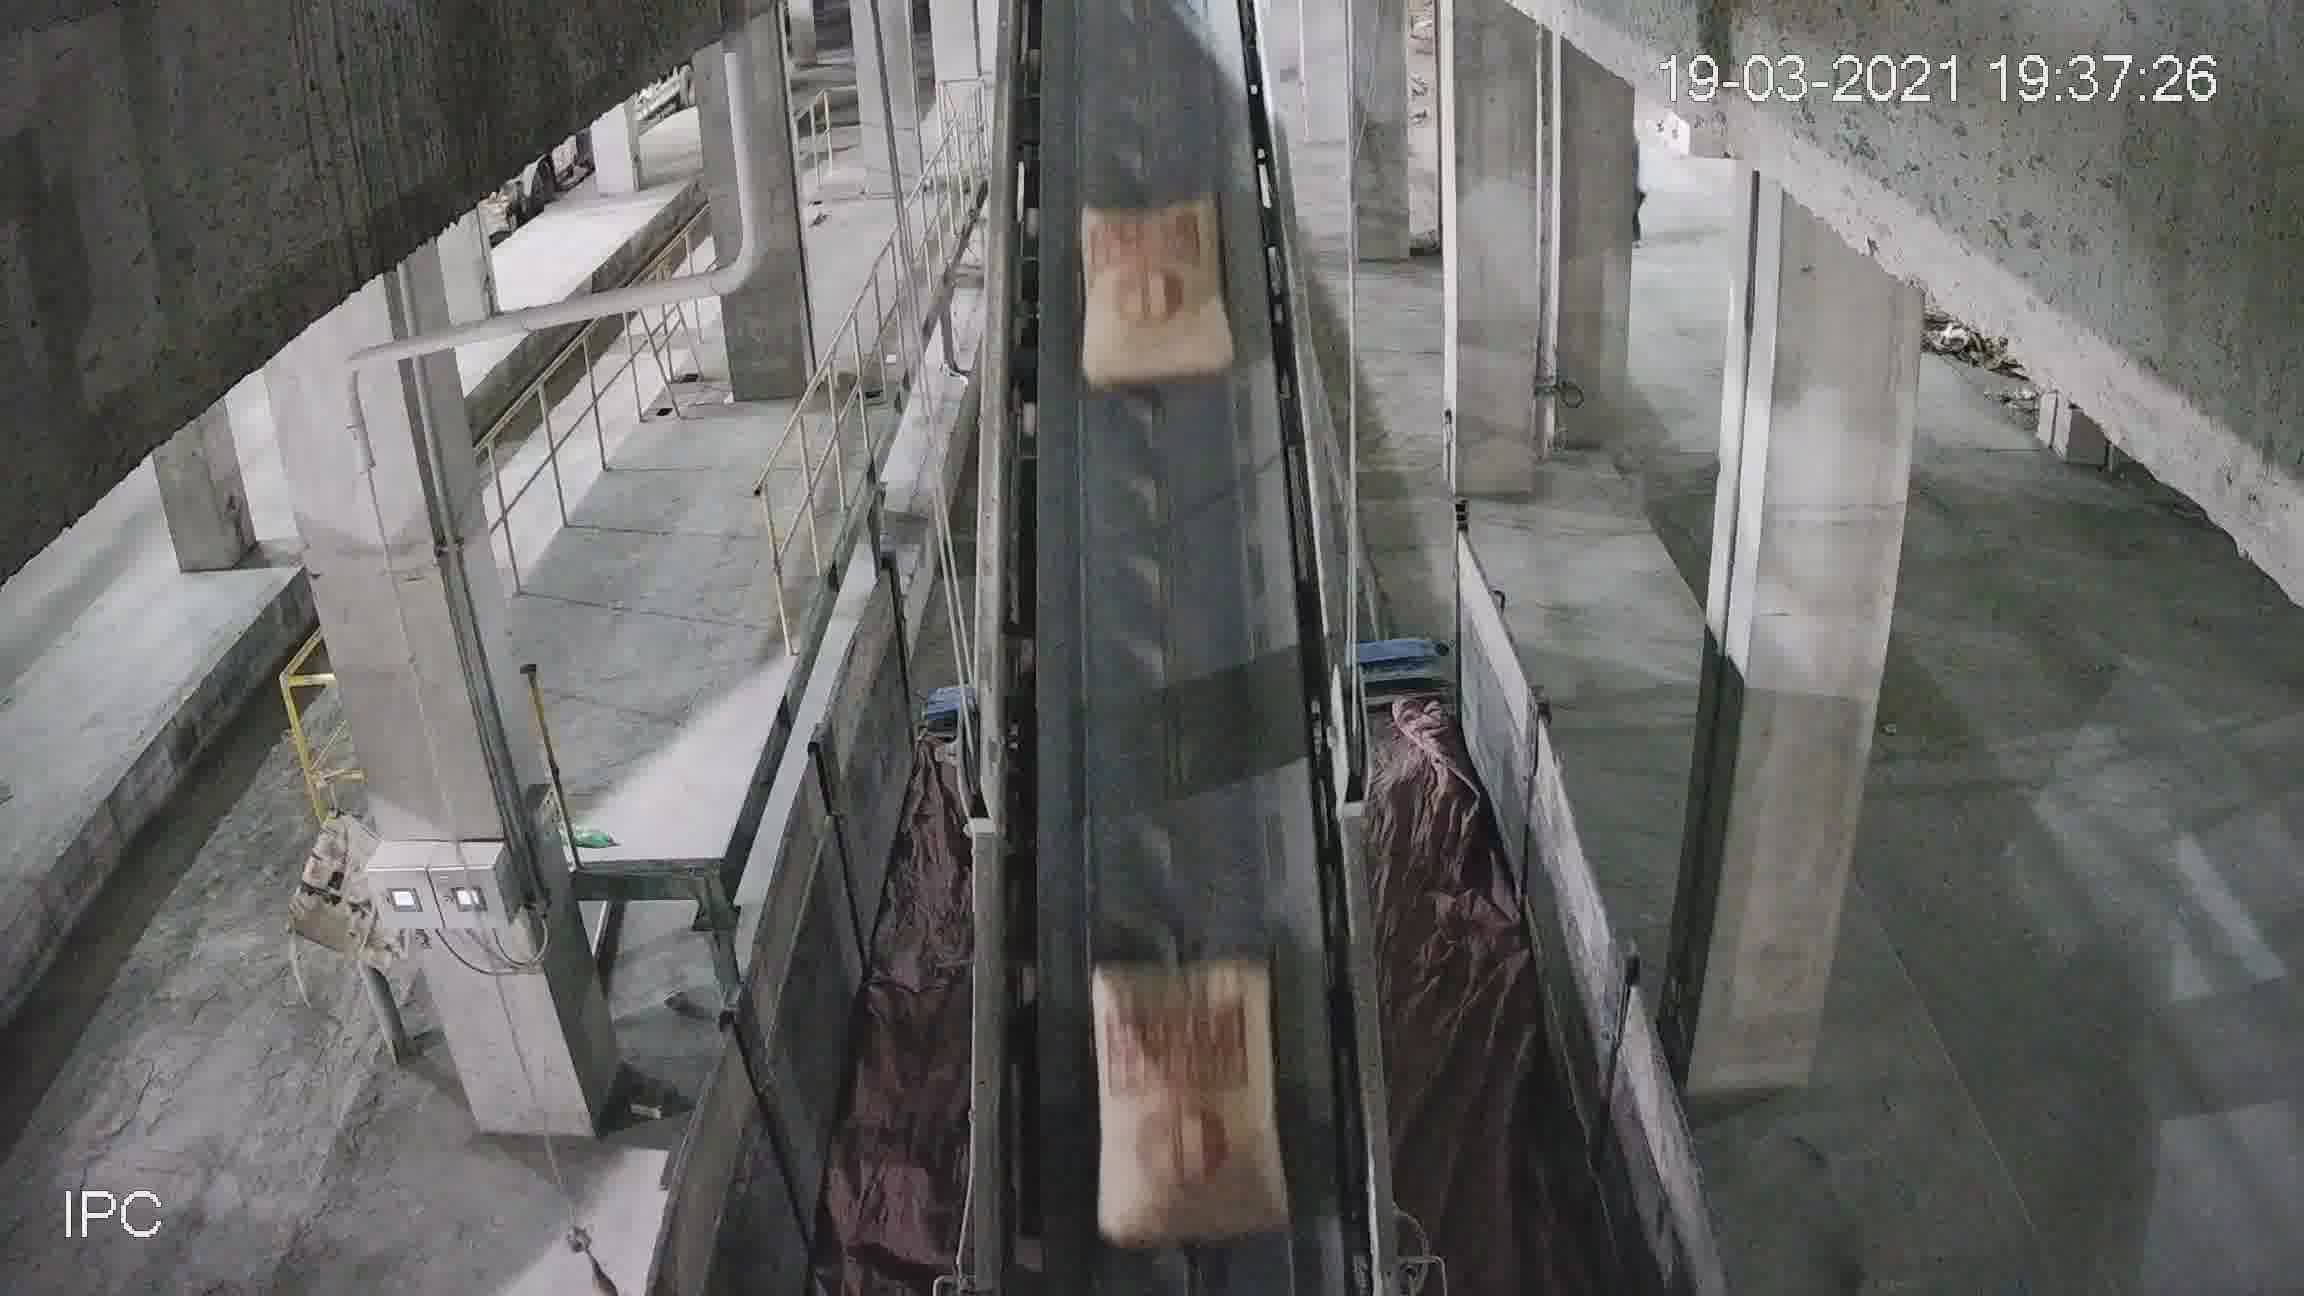bag: (1090, 967, 1282, 1173), (1084, 191, 1223, 424)
belt: (967, 84, 1367, 1059)
